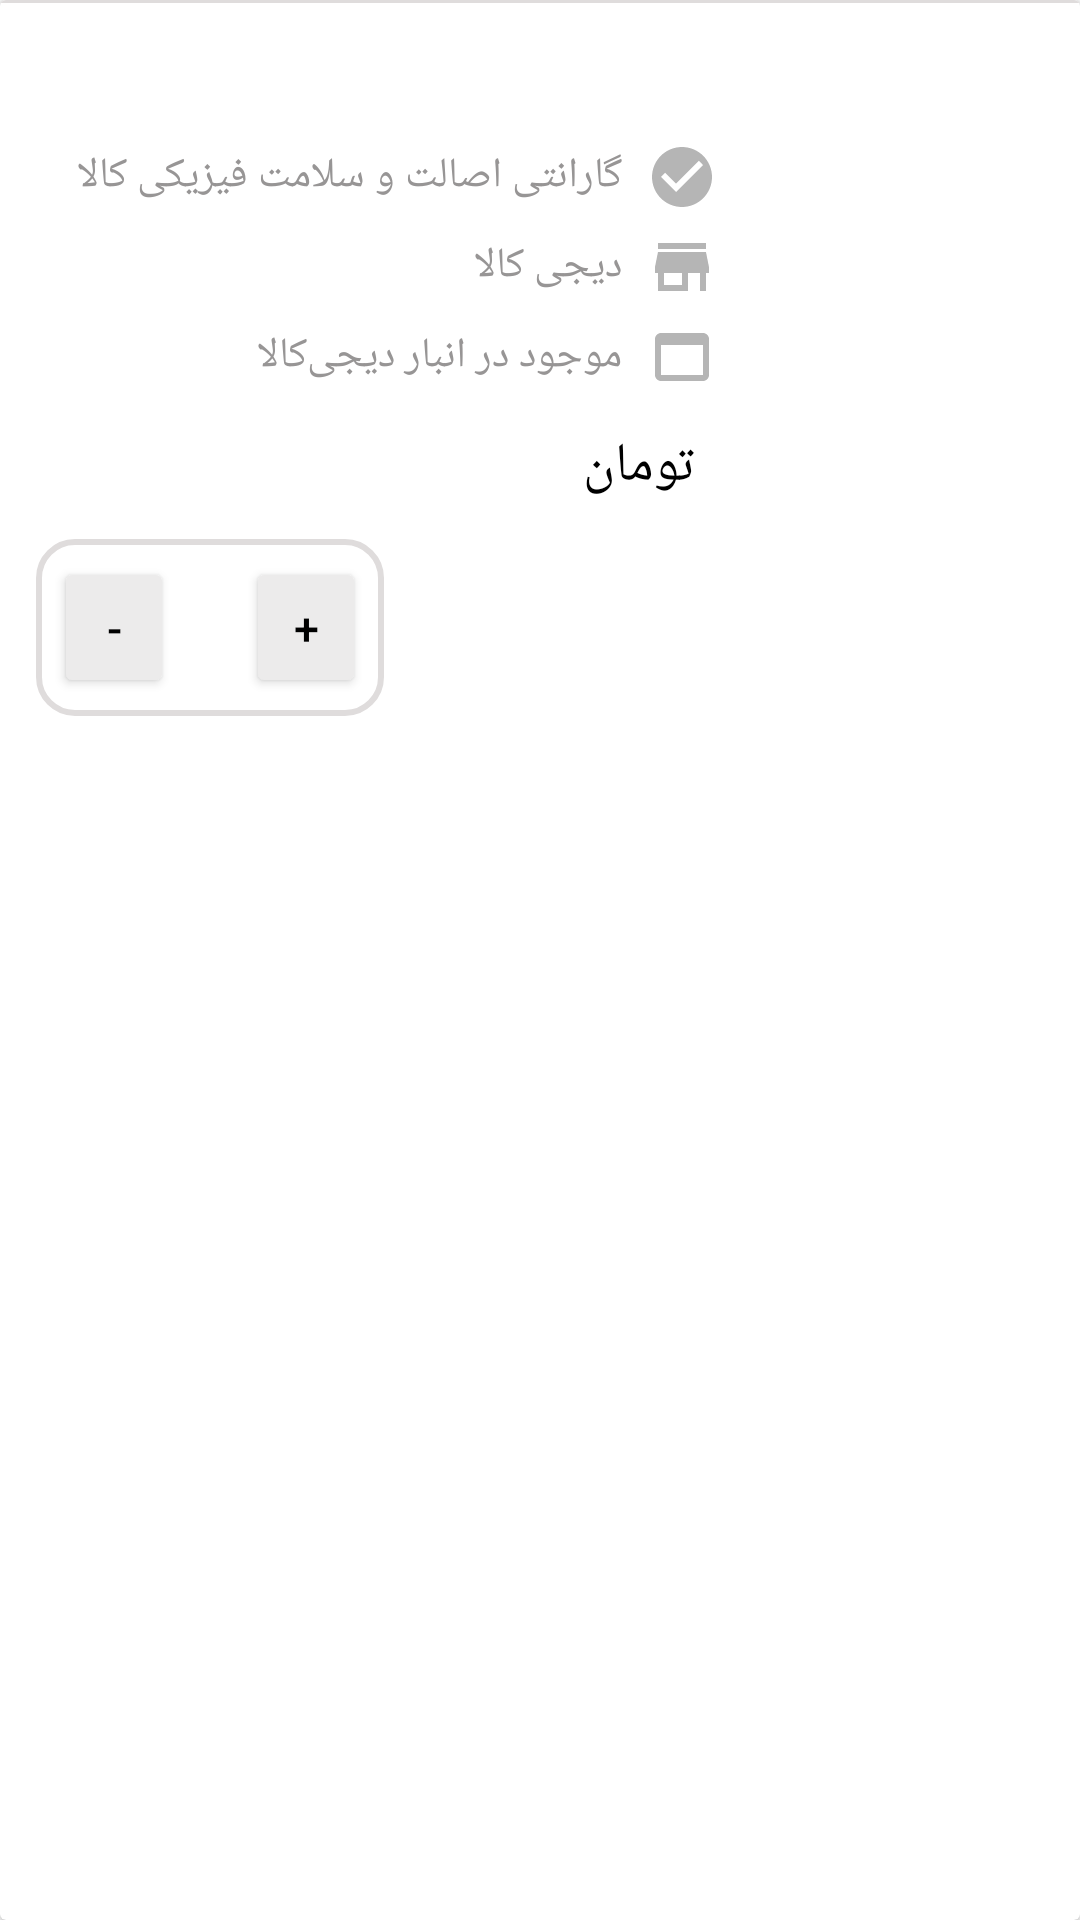

Named icons in this screenshot (1080 x 1920) and their bounding boxes, (x1, y1, x2, y2):
check circle: (652, 147, 712, 207)
store: (655, 243, 709, 291)
web: (655, 333, 709, 381)
